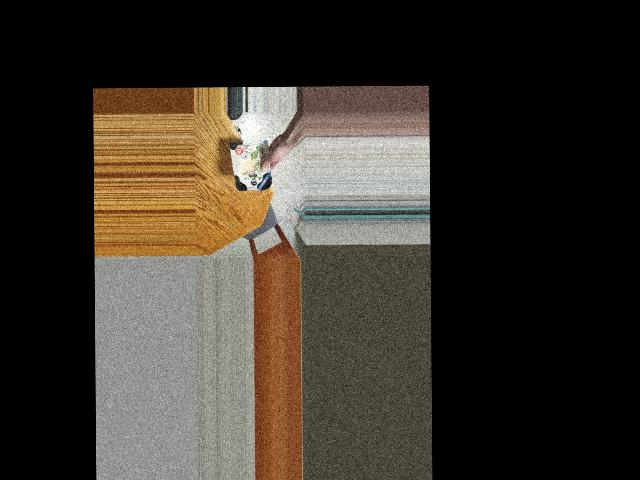cheese: (236, 131, 274, 197)
